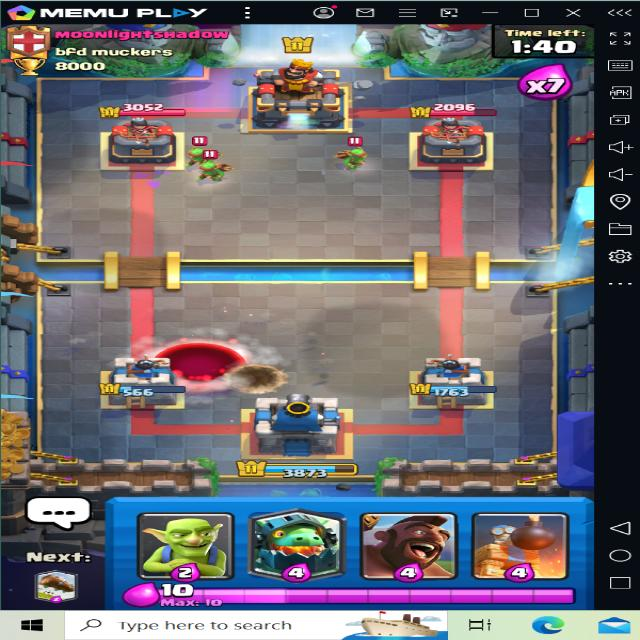Speargoblin: (184, 137, 219, 166), (336, 146, 370, 168), (197, 161, 233, 181)
